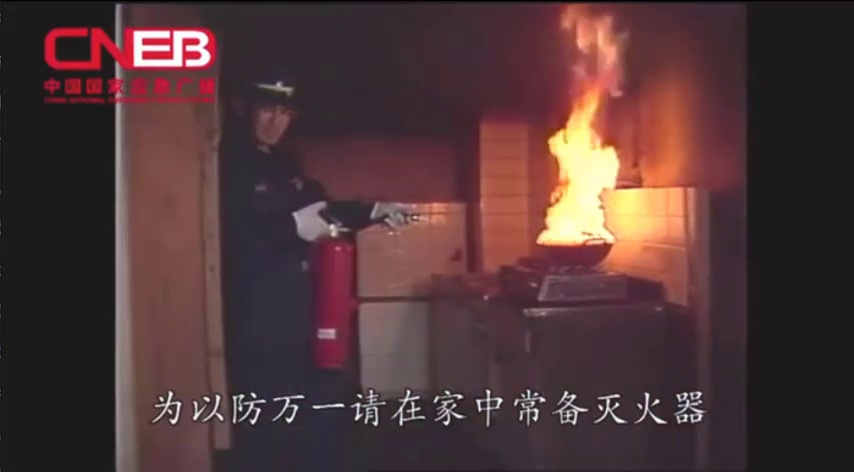fire: (525, 6, 632, 258)
